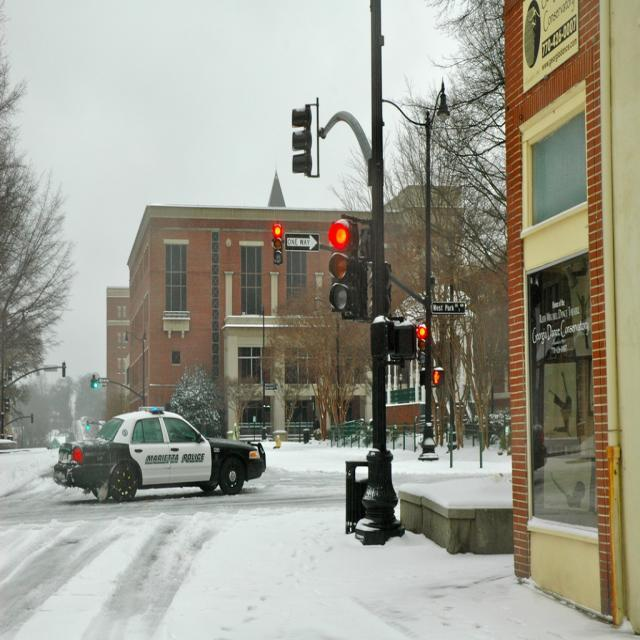off traffic light: (291, 103, 312, 173)
traffic light: (328, 221, 354, 312), (272, 223, 283, 264)
